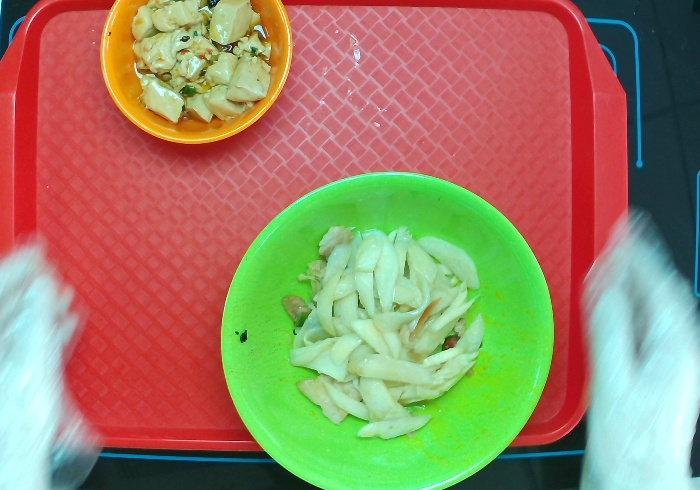YKMZ-Ju_Se_Yuan_Wan: (99, 1, 294, 140)
YKMZ-Lv_Se_Tang_Wan: (212, 164, 561, 490)
